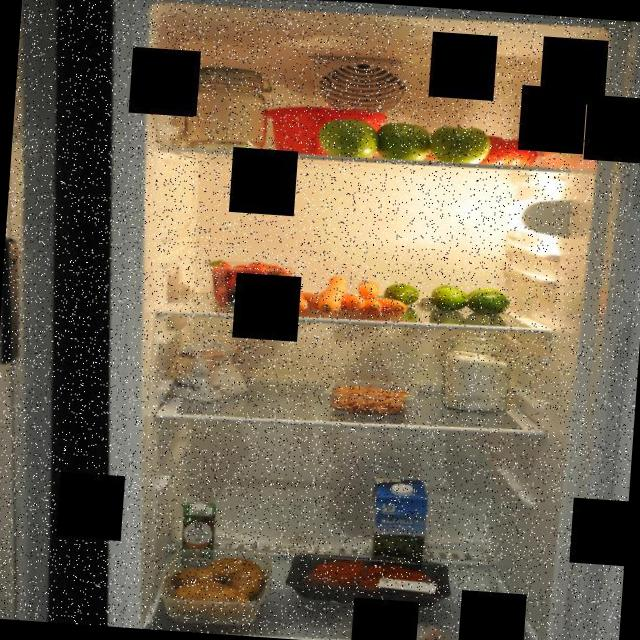Carne vacuno: (282, 548, 454, 613)
Gambas/Langostinos: (333, 381, 408, 419)
Leche: (367, 472, 431, 570)
Mantequilla: (262, 99, 388, 160)
Manzana: (316, 110, 497, 170)
Patata: (161, 542, 272, 628)
Tomate: (474, 130, 542, 170)
Zanahoria: (282, 269, 412, 321)
